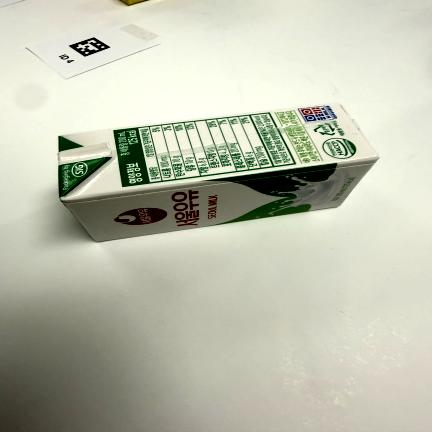milk_green: (58, 103, 380, 242)
